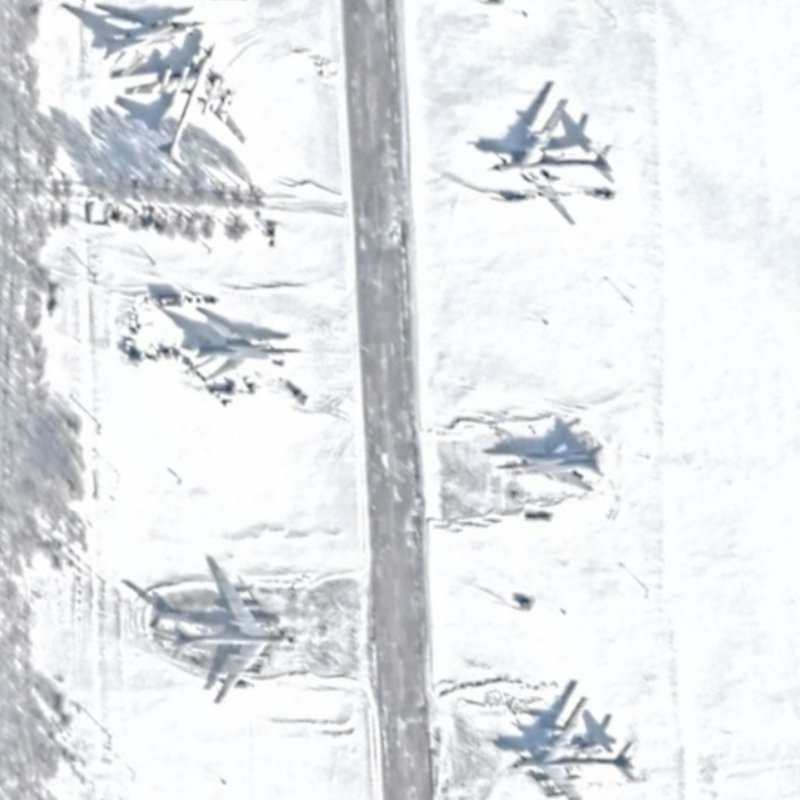A12: (195, 316, 305, 385), (495, 430, 607, 494), (101, 14, 207, 67)
A17: (170, 553, 301, 706), (489, 96, 617, 226), (122, 41, 249, 164), (509, 694, 638, 800)
